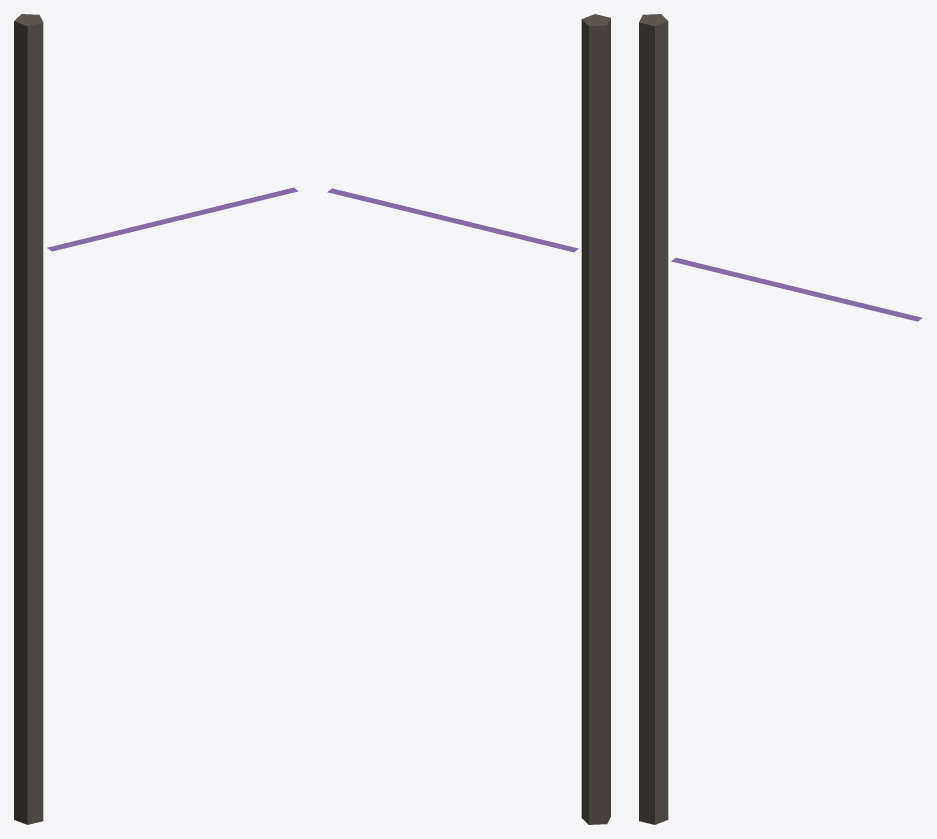
Rendered from banner.glb.
3 views of the same model, side by side, from view 1: azimuth 30°, elevation 25°; view 2: azimuth 150°, elevation 25°; view 3: azimuth 330°, elevation 25° (orthographic).
Parts seen in each view (by area): view 1: banner; view 2: banner; view 3: banner.
Boxes of the visible parts, bbox=[...] form: banner: bbox=[14, 14, 298, 824]; banner: bbox=[327, 14, 610, 824]; banner: bbox=[639, 14, 922, 824].
Bounding box in the file's own units: 0.6235 × 1.7 × 0.0543.
